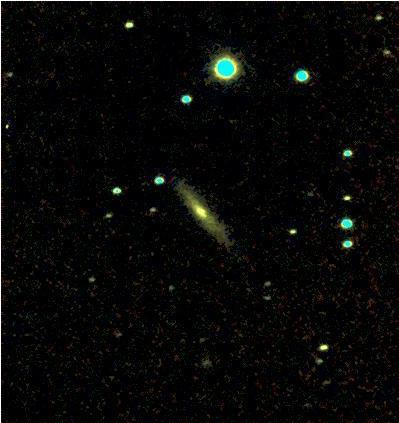star: (0, 111, 24, 141)
